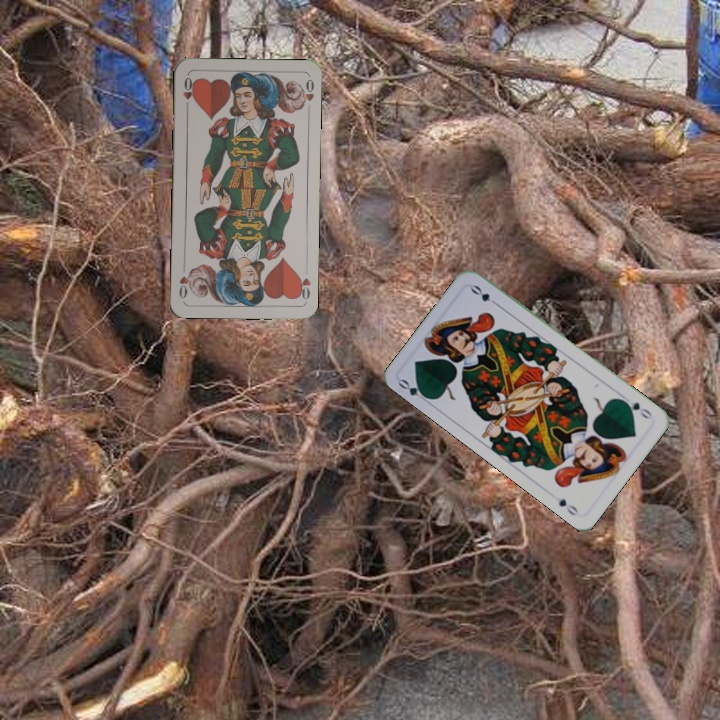GO: (394, 375, 433, 405), (618, 396, 655, 422)
HO: (294, 263, 313, 302), (179, 73, 196, 113)
